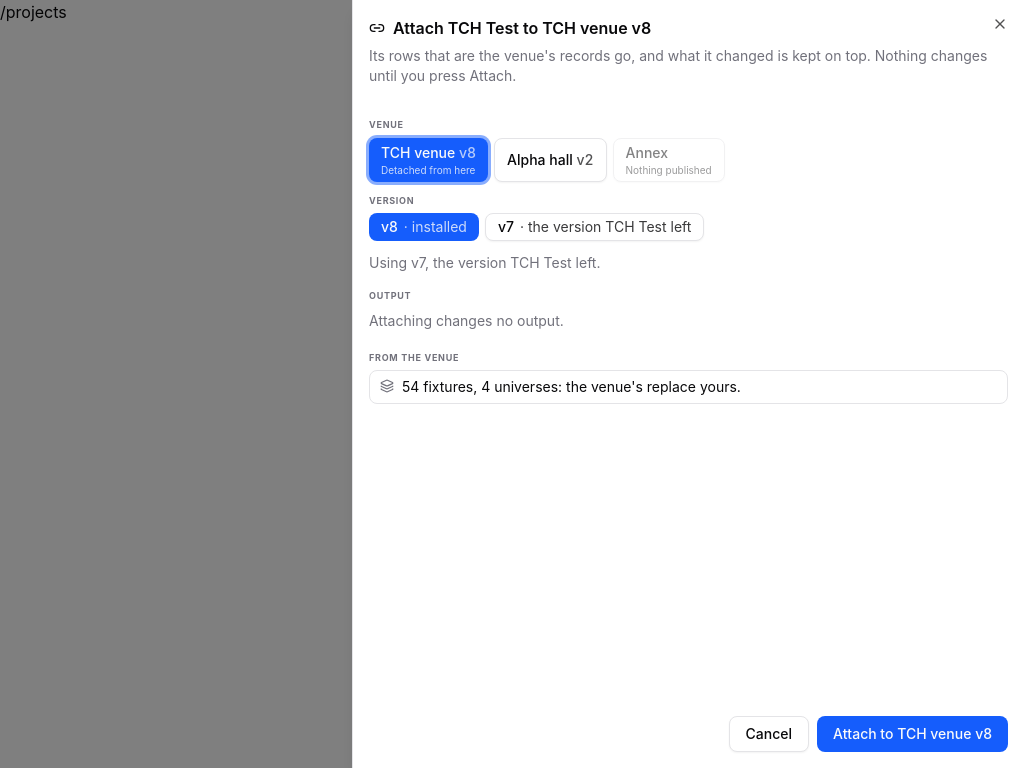
Scenario: answers › closes on the show’s home once the attach lands
Click the button "Attach to TCH venue v8".
click(912, 734)  # box [817, 716, 1008, 752]
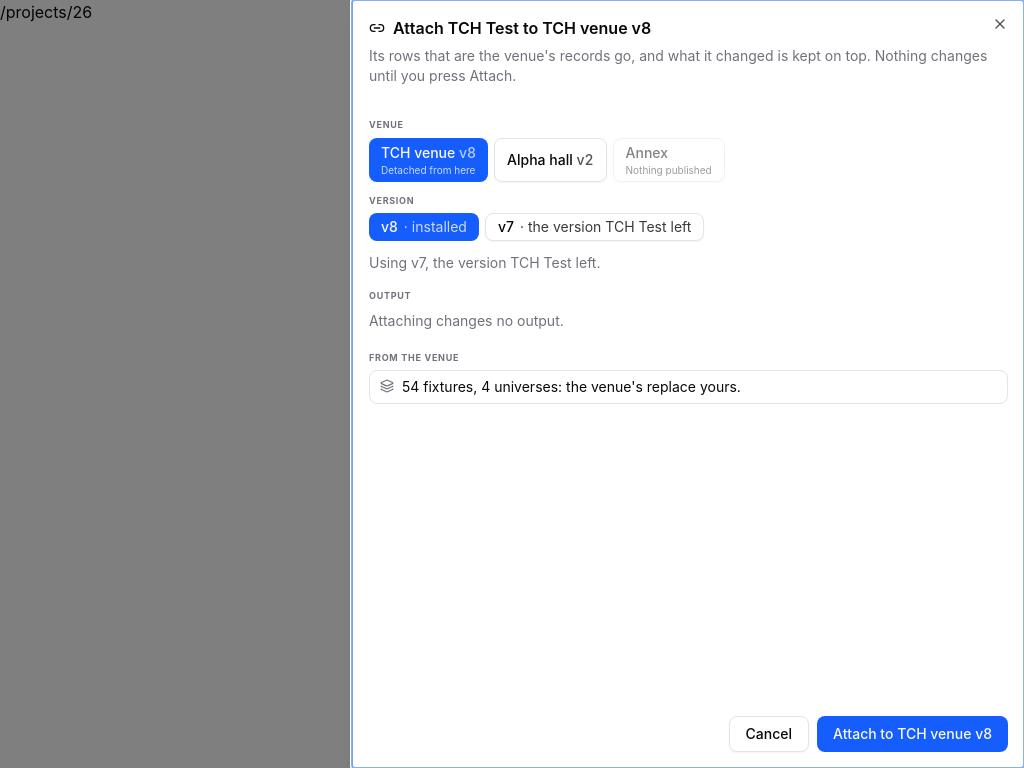
Now the text with test id "where" reads "/projects/26", box [0, 2, 92, 22]
